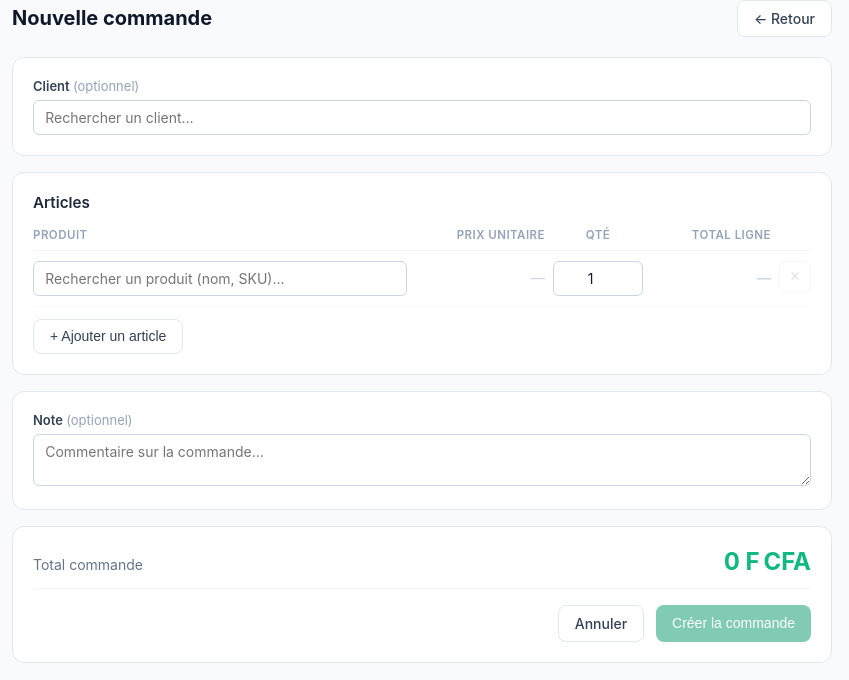
Test: OrderCreateView › selecting a simple product fills the line and computes the total
Note: Focus the product input → triggers loadProducts
Focus the field with placeholder "Rechercher un produit (nom, SKU)…" at x=220, y=278, box top-left (33, 261), bottom-right (407, 296)
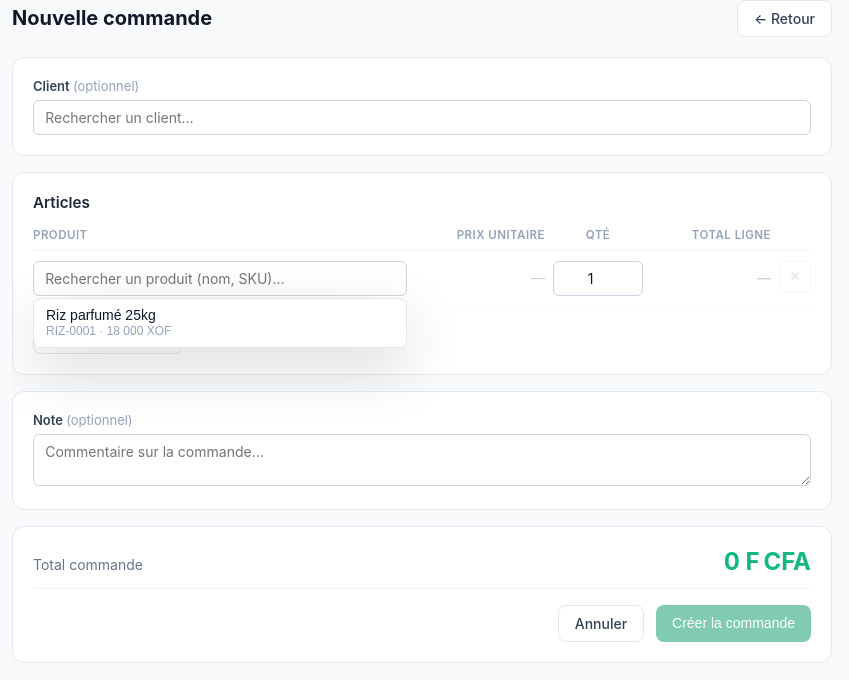
expect the button "Riz parfumé 25kg RIZ-0001 · 18 000 XOF" is shown: met
Click the button "Riz parfumé 25kg RIZ-0001 · 18 000 XOF".
click(101, 315)  # box top-left (34, 299), bottom-right (406, 347)
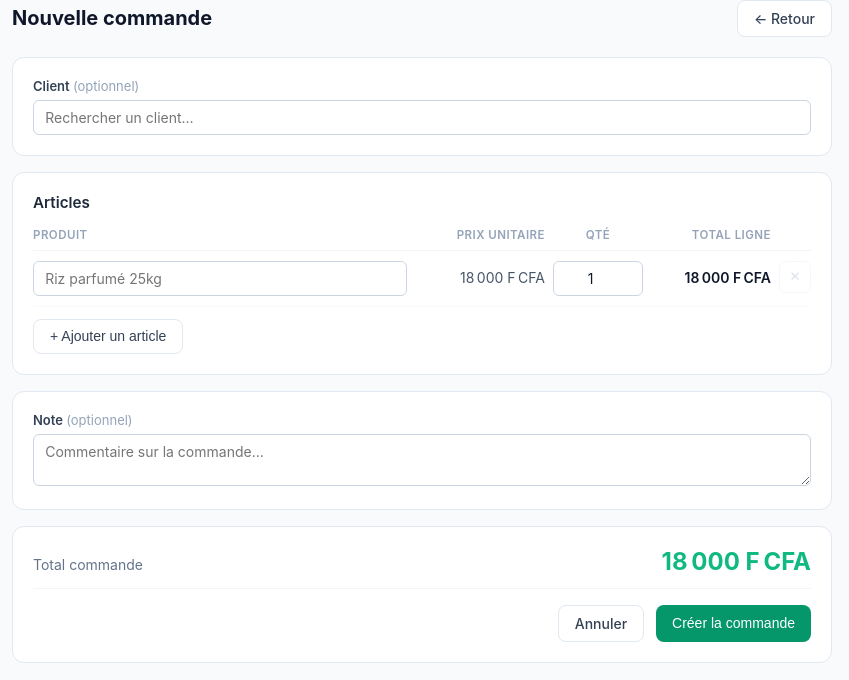
expect the text with class "ot-value" shows "18": met, box top-left (662, 547), bottom-right (811, 576)
expect the text with class "ot-value" shows "000": met, box top-left (662, 547), bottom-right (811, 576)
